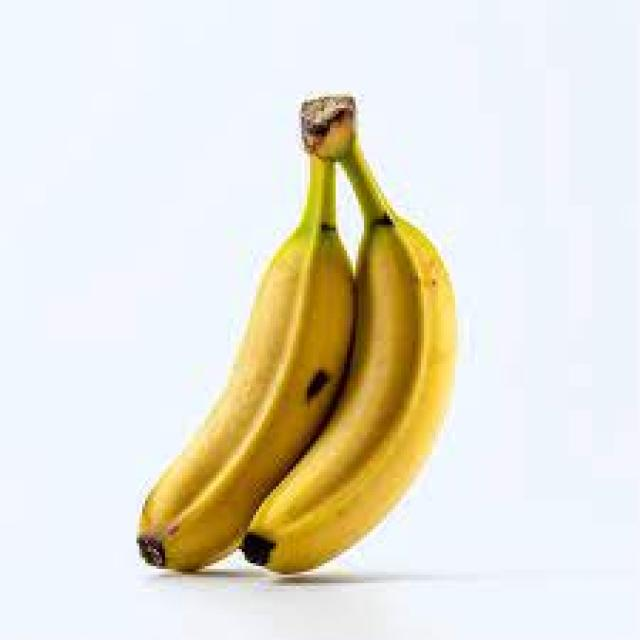Banana: (242, 100, 454, 572), (142, 156, 352, 569)
